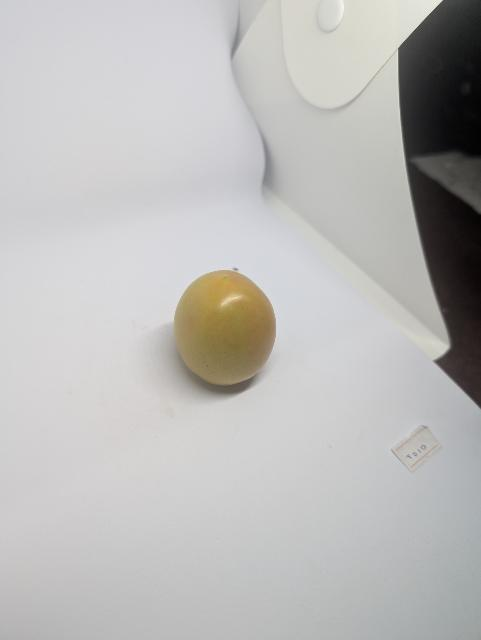breaker: (163, 266, 289, 400)
